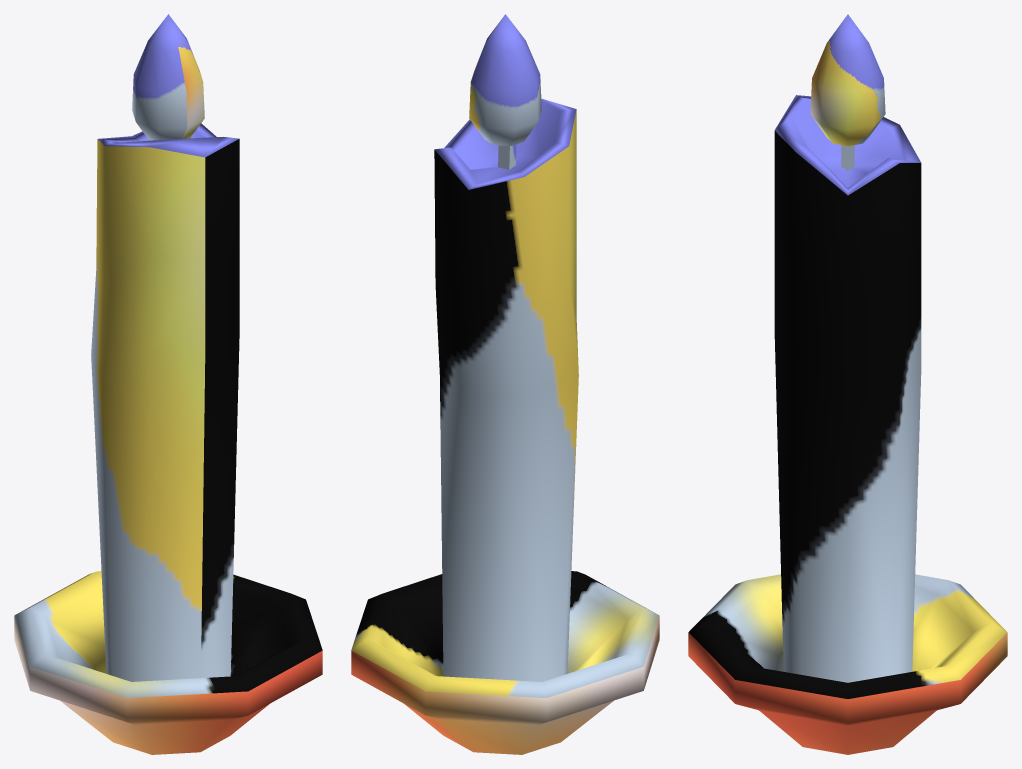
Rendered from candle.fbx.
3 views of the same model, side by side, from view 1: azimuth 30°, elevation 25°; view 2: azimuth 150°, elevation 25°; view 3: azimuth 270°, elevation 25° (orthographic).
Parts seen in each view (by area): view 1: polySurface3; view 2: polySurface3; view 3: polySurface3.
Boxes of the visible parts, <box> form: polySurface3: <box>14,14,322,754</box>; polySurface3: <box>351,14,659,754</box>; polySurface3: <box>688,14,1007,754</box>.
Size of the model in its own units: 1.62 by 4 by 1.62.
